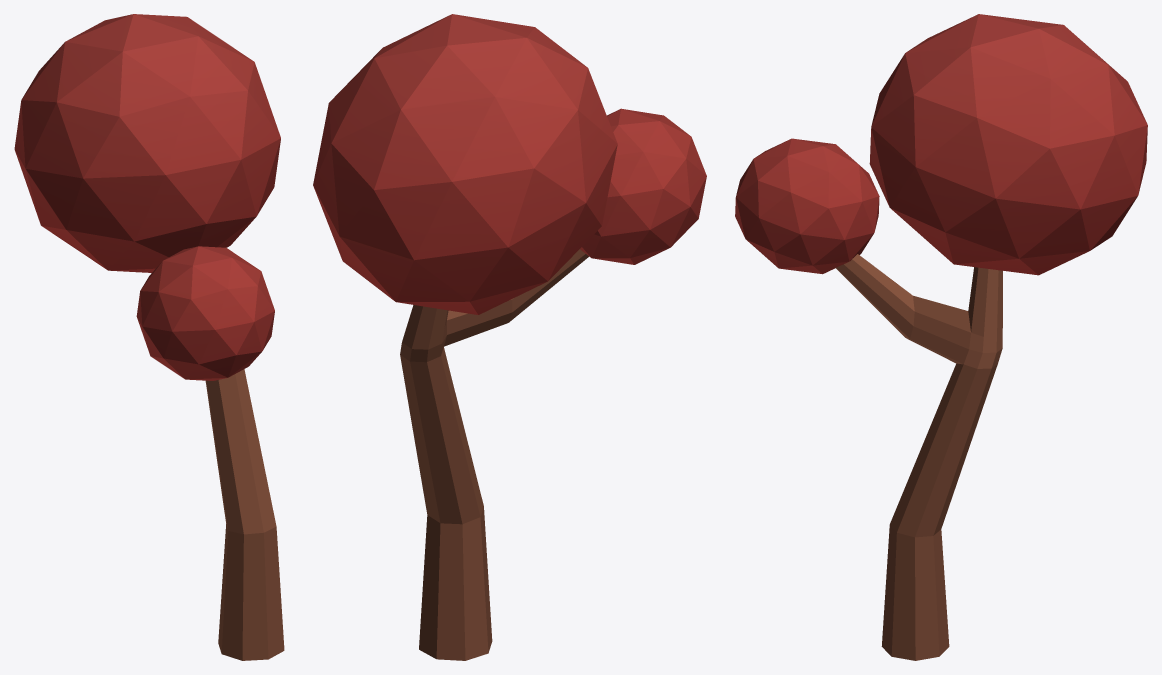
File: Tree_02_gradient_red_vc.fbx
3 views of the same model, side by side, from view 1: azimuth 30°, elevation 25°; view 2: azimuth 150°, elevation 25°; view 3: azimuth 270°, elevation 25° (orthographic). The views are drawn at different scales.
Visible parts, largest first — view 1: Tree_02_gradient_red_vc; view 2: Tree_02_gradient_red_vc; view 3: Tree_02_gradient_red_vc.
Boxes of the visible parts, x1=… form: Tree_02_gradient_red_vc: x1=14, y1=14, x2=284, y2=660; Tree_02_gradient_red_vc: x1=313, y1=14, x2=706, y2=660; Tree_02_gradient_red_vc: x1=735, y1=14, x2=1147, y2=660.
Bounding box in the file's own units: 71.42 × 177 × 112.
